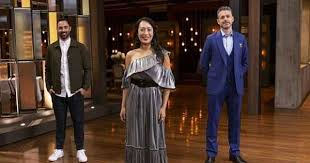Caution: (122, 6, 251, 162), (46, 14, 172, 161)
